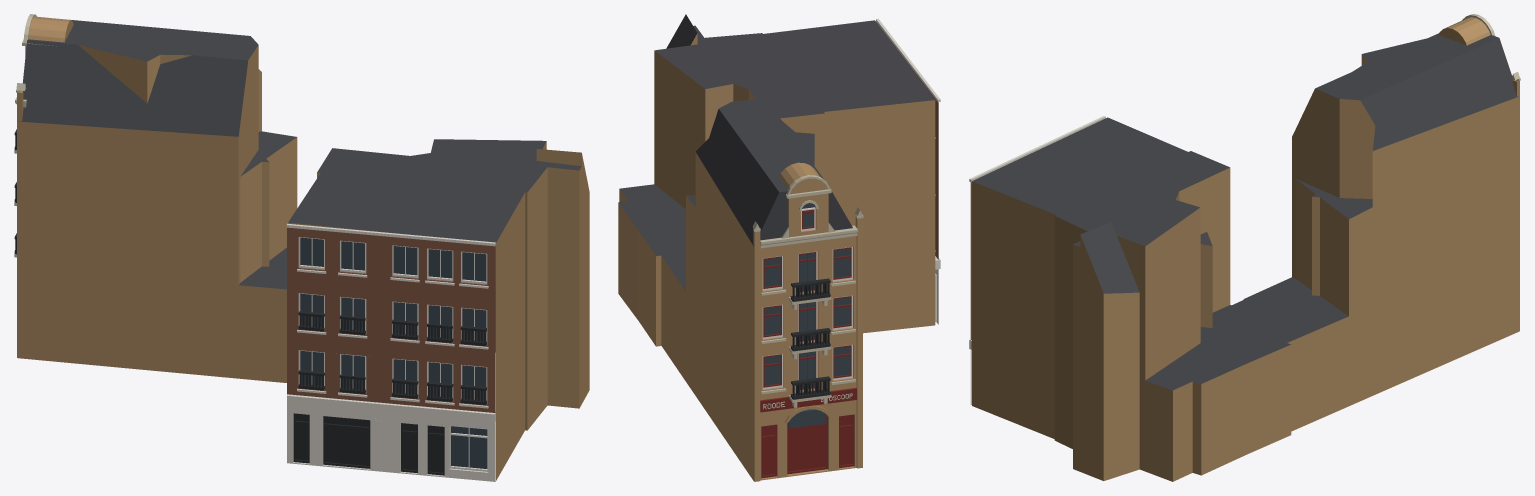
File: roode-bioscoop.glb
3 views of the same model, side by side, from view 1: azimuth 30°, elevation 25°; view 2: azimuth 150°, elevation 25°; view 3: azimuth 270°, elevation 25° (orthographic). The views are drawn at different scales.
Parts seen in each view (by area): view 1: roode-bioscoop; view 2: roode-bioscoop; view 3: roode-bioscoop.
Part boxes in pixels (box(x1,y1,x2,y2)): roode-bioscoop: box(14, 14, 589, 481); roode-bioscoop: box(618, 14, 940, 481); roode-bioscoop: box(969, 14, 1520, 481).
Size of the model in its own units: 21.94 by 16.66 by 27.82.
